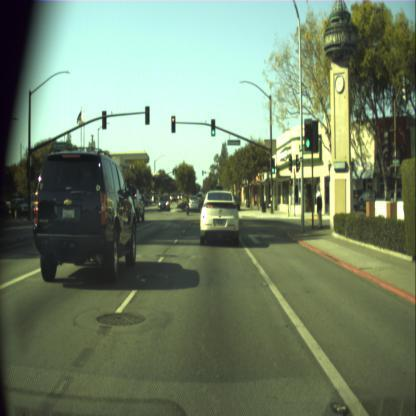Green: (304, 120, 314, 150), (211, 119, 215, 136), (271, 158, 274, 173)
RedLeft: (171, 115, 175, 132)
off: (202, 170, 204, 176)
